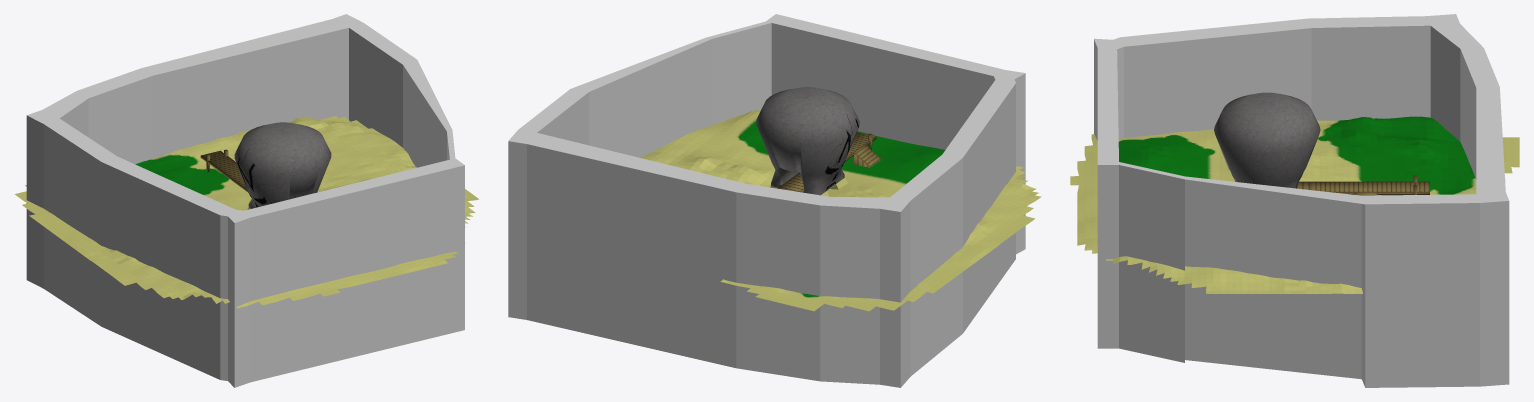
File: map_20.fbx
3 renders of one model, left to right at view 1: azimuth 30°, elevation 25°; view 2: azimuth 150°, elevation 25°; view 3: azimuth 270°, elevation 25°, orthographic. The views are drawn at different scales.
Visible parts, largest first — view 1: Plane.001; view 2: Plane.001; view 3: Plane.001.
Boxes of the visible parts, <box> form: Plane.001: <box>14,14,478,387</box>; Plane.001: <box>508,14,1041,387</box>; Plane.001: <box>1070,14,1519,387</box>.
Bounding box in the file's own units: 131 × 58.25 × 126.
